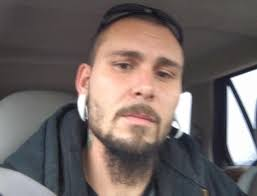white_male: (66, 26, 208, 159)
